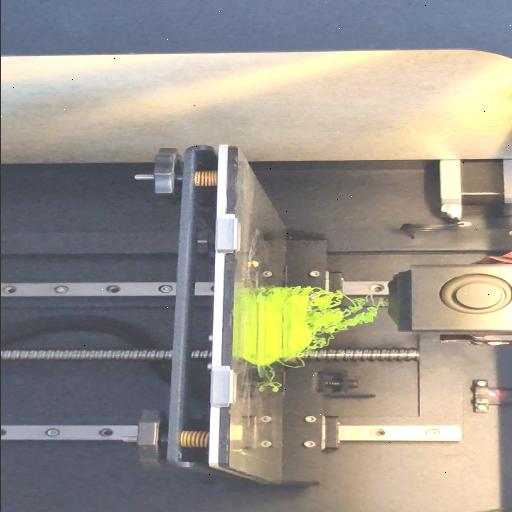spaghetti: (306, 287, 386, 350), (258, 284, 306, 294), (262, 366, 280, 392), (280, 359, 307, 370)
